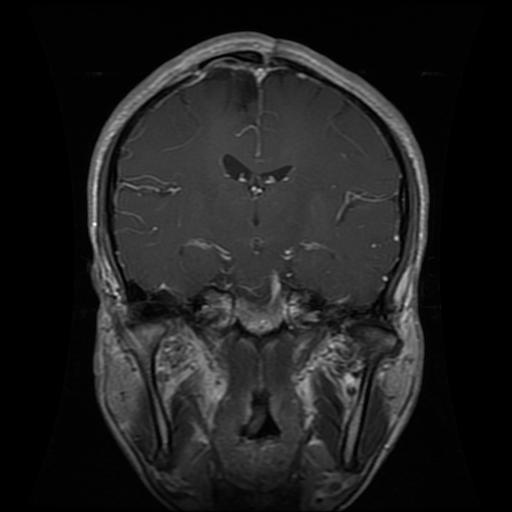Gliomia_tumour: (206, 68, 262, 109)
